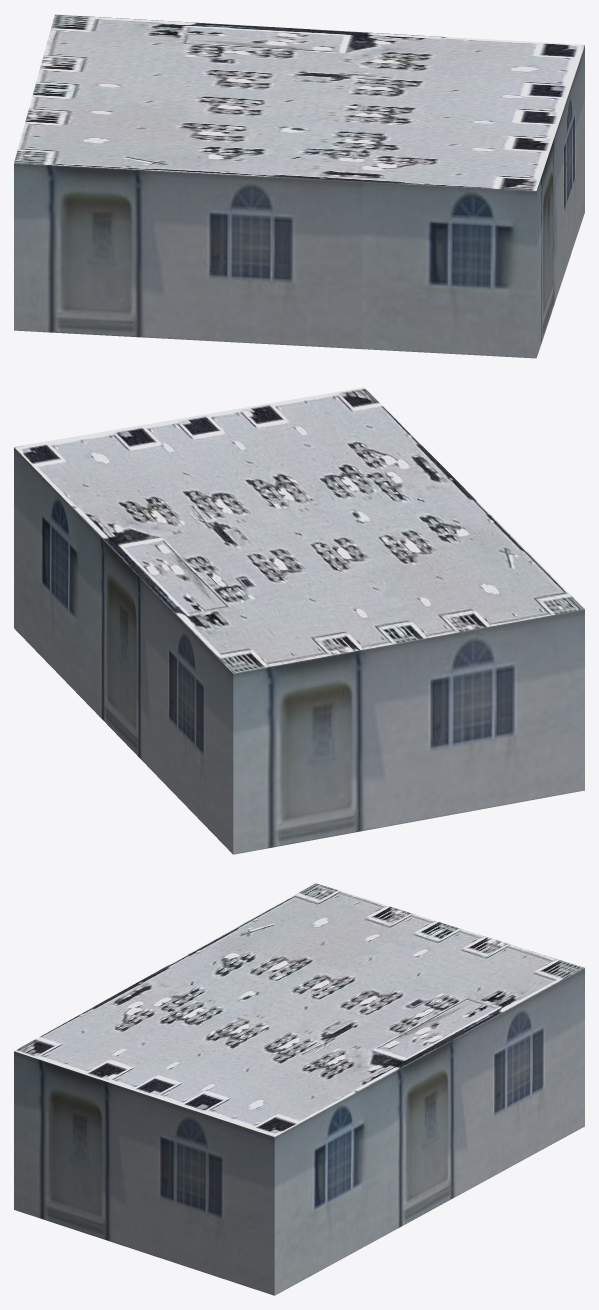
Rendered from ResTex__4337.fbx.
The picture shows the model from 3 angles, top to bottom: view 1: azimuth 30°, elevation 25°; view 2: azimuth 150°, elevation 25°; view 3: azimuth 270°, elevation 25°; orthographic projection. The views are drawn at different scales.
Visible parts, largest first — view 1: CityEngineMaterial_17_m, CityEngineMaterial_4_m; view 2: CityEngineMaterial_17_m, CityEngineMaterial_4_m; view 3: CityEngineMaterial_17_m, CityEngineMaterial_4_m.
Boxes of the visible parts, x1,y1,x2,y2 form: CityEngineMaterial_17_m: (14, 45, 584, 358); CityEngineMaterial_4_m: (14, 14, 584, 190); CityEngineMaterial_17_m: (14, 447, 584, 854); CityEngineMaterial_4_m: (14, 387, 584, 673); CityEngineMaterial_17_m: (14, 968, 584, 1295); CityEngineMaterial_4_m: (14, 883, 584, 1136).
Bounding box in the file's own units: 10.3 × 3 × 9.79.
Materials: 2 (2 with a texture image).
